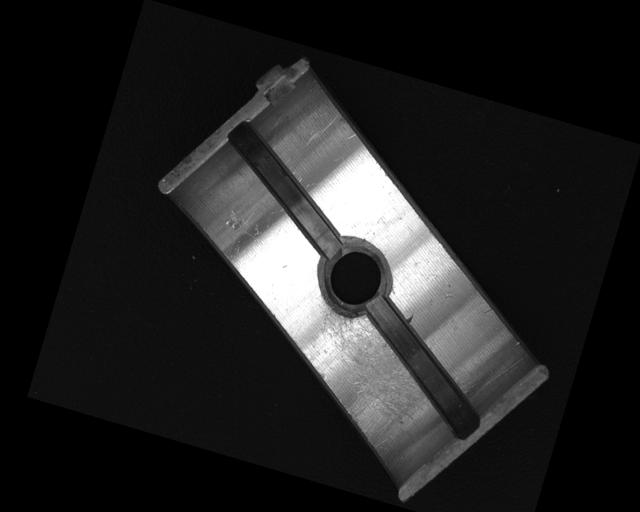bruise: (222, 208, 246, 233), (403, 310, 415, 325)
gap: (338, 293, 506, 441), (205, 119, 364, 258)
hole: (308, 229, 401, 323)
scratch: (282, 291, 446, 455)
